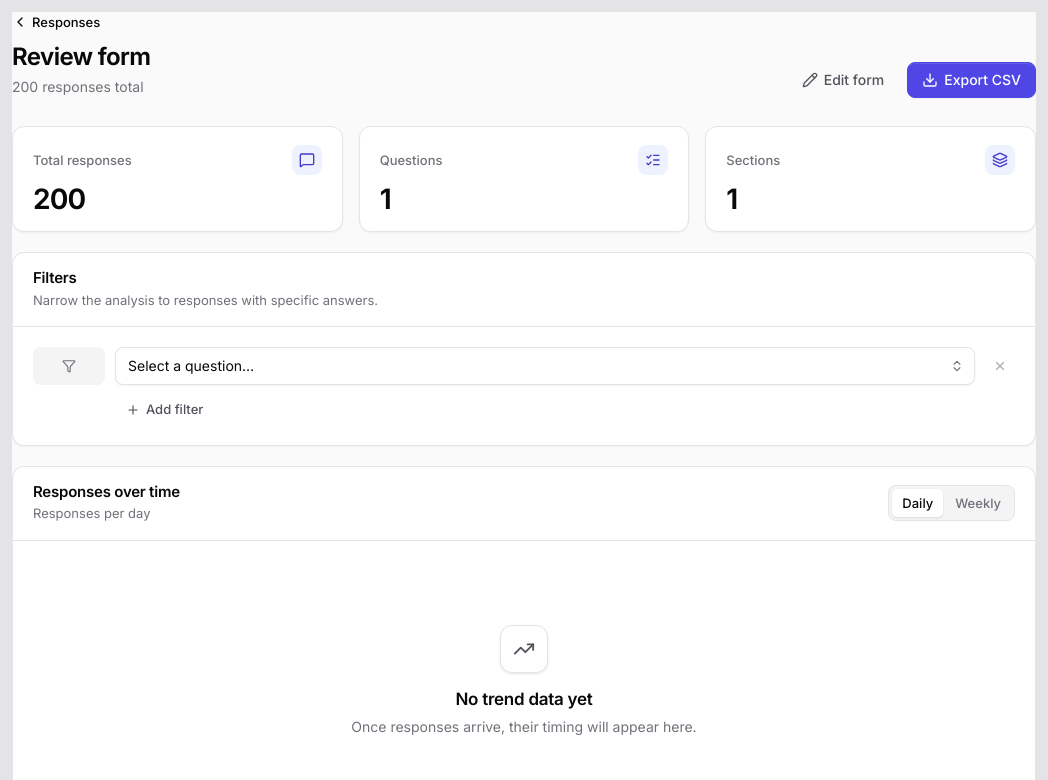
Test case: review regressions › filters analytics on the server without downloading response pages
This screenshot has width=1048, height=780.
Expected: the text "200 responses total" is shown, x1=12 y1=78 x2=144 y2=95
Select "Text" in the dropdown at (545, 366), box x1=115 y1=347 x2=975 y2=385
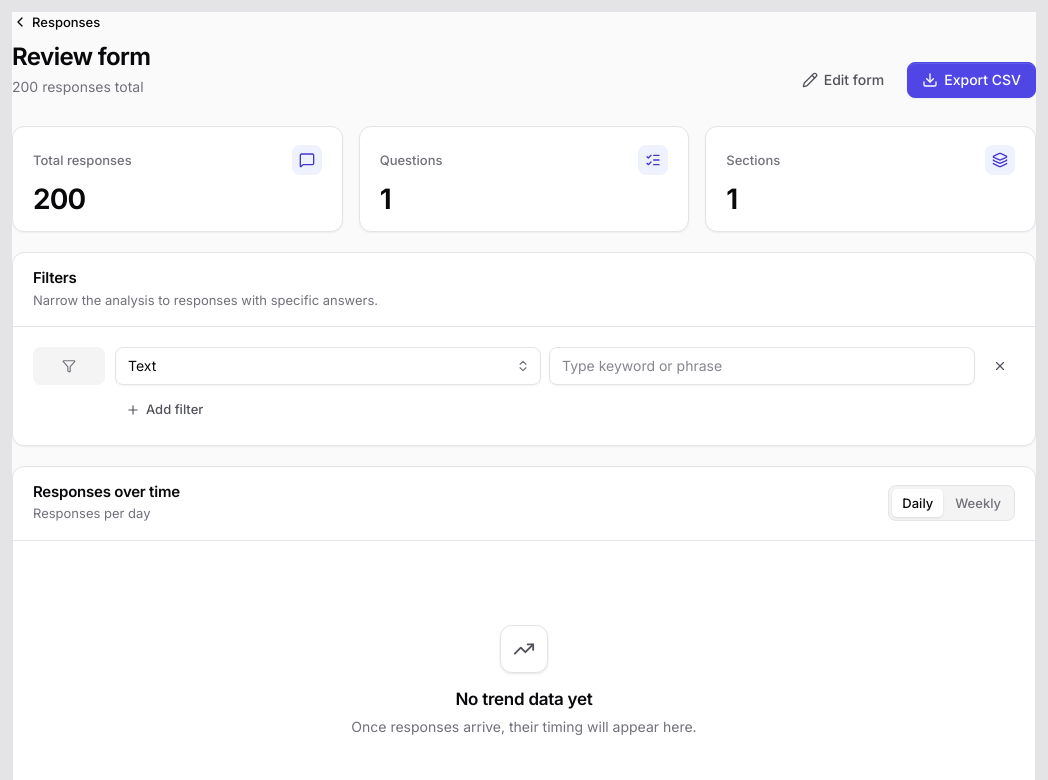
Type "needle" into the field with placeholder "Type keyword or phrase" at (762, 366), box x1=549 y1=347 x2=975 y2=385
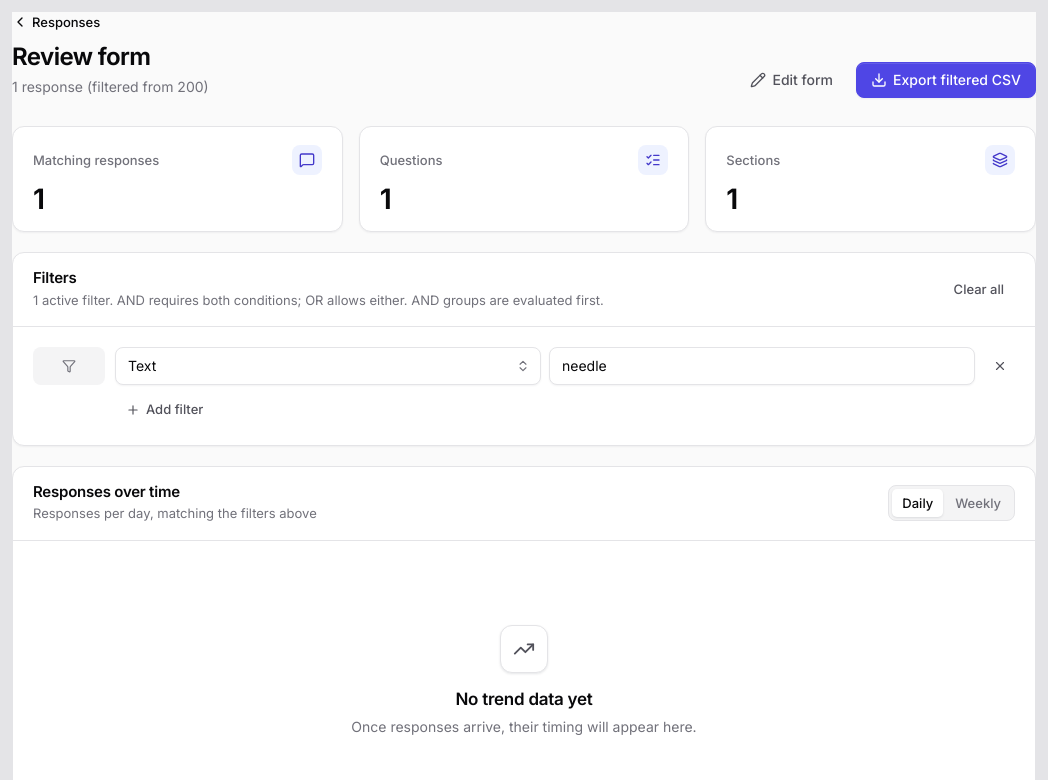
Expected: the text "1 response (filtered from 200)" is shown, x1=12 y1=78 x2=209 y2=95
